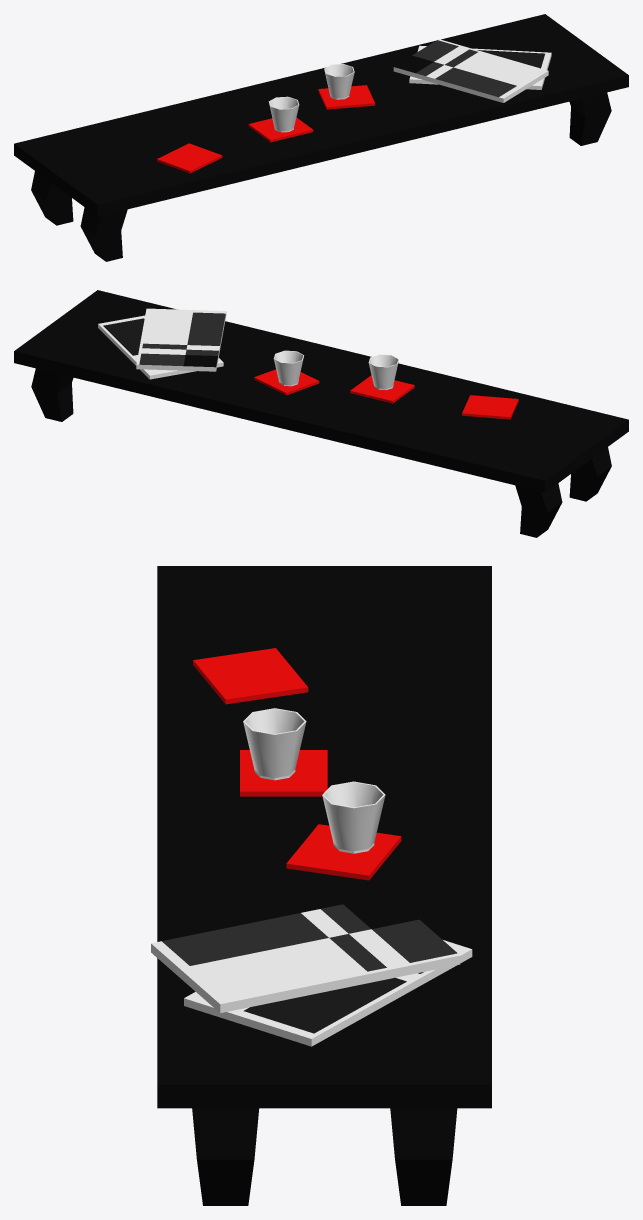
The model's file is CoffeeTable.FBX.
The picture shows the model from 3 angles, top to bottom: view 1: azimuth 30°, elevation 25°; view 2: azimuth 150°, elevation 25°; view 3: azimuth 270°, elevation 25°; orthographic projection. The views are drawn at different scales.
Parts seen in each view (by area): view 1: Box040; view 2: Box040; view 3: Box040.
Boxes of the visible parts, box(x1,y1,x2,y2) form: Box040: box(14, 14, 628, 261); Box040: box(14, 290, 628, 537); Box040: box(151, 566, 491, 1205).
Size of the model in its own units: 334 by 58.7 by 92.73.
